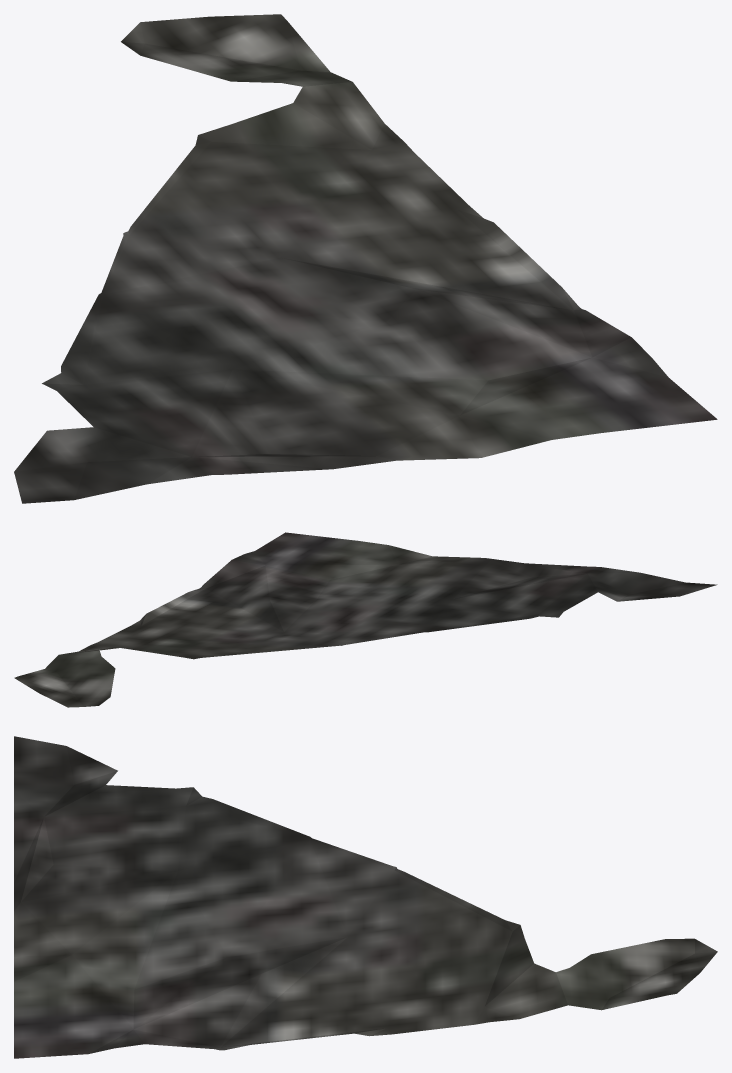
The picture shows the model from 3 angles, top to bottom: view 1: azimuth 30°, elevation 25°; view 2: azimuth 150°, elevation 25°; view 3: azimuth 270°, elevation 25°; orthographic projection. The views are drawn at different scales.
Bounding box in the file's own units: 0.2228 × 0.0262 × 0.2574.
1 material, 1 textured.
